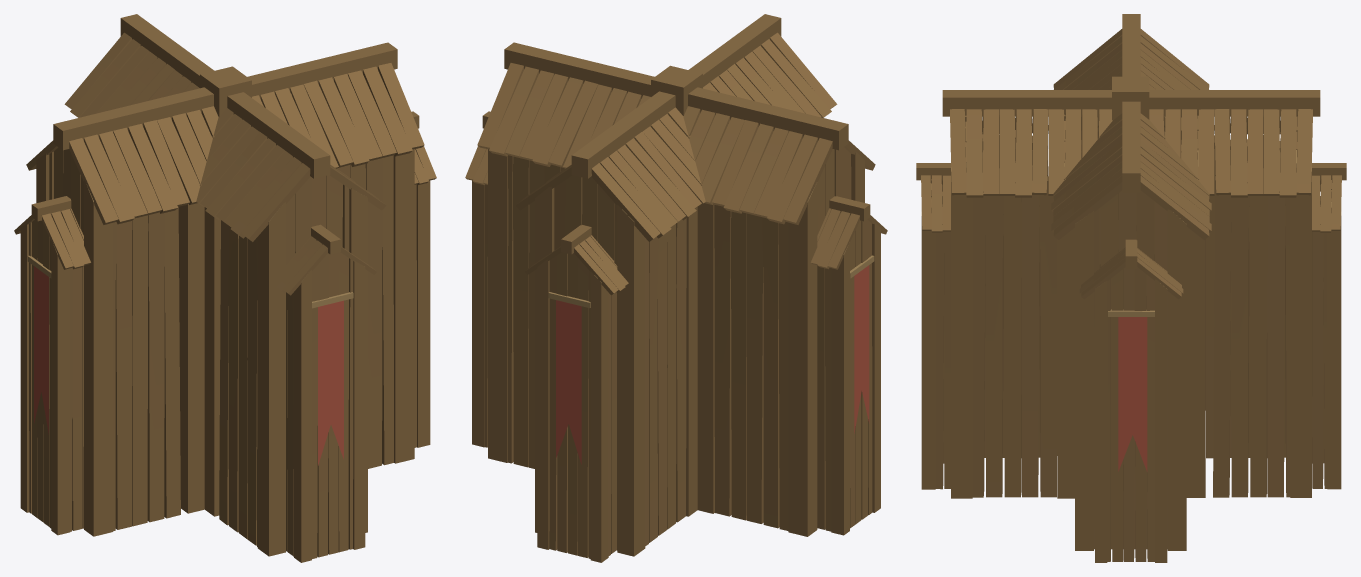
The model's file is temple_firstage_level1.glb.
3 renders of one model, left to right at view 1: azimuth 30°, elevation 25°; view 2: azimuth 150°, elevation 25°; view 3: azimuth 270°, elevation 25°, orthographic. The views are drawn at different scales.
Parts seen in each view (by area): view 1: Temple_FirstAge_Level1; view 2: Temple_FirstAge_Level1; view 3: Temple_FirstAge_Level1.
Boxes of the visible parts, x1,y1,x2,y2 form: Temple_FirstAge_Level1: [14, 14, 436, 562]; Temple_FirstAge_Level1: [465, 14, 887, 562]; Temple_FirstAge_Level1: [916, 14, 1346, 562].
Size of the model in its own units: 1.81 by 1.81 by 1.81.
